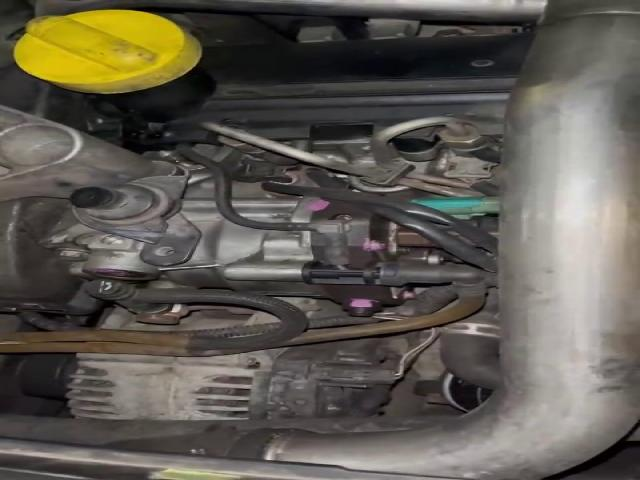alternator: (66, 350, 278, 420)
high_pressure_pump: (53, 180, 404, 314)
